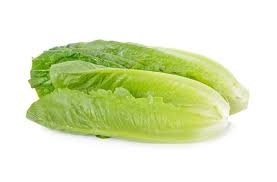Lettuce: (23, 40, 246, 157)
